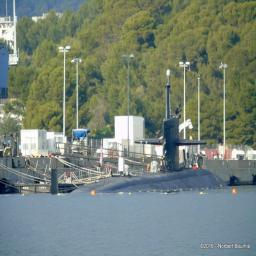submarine: (50, 79, 234, 191)
